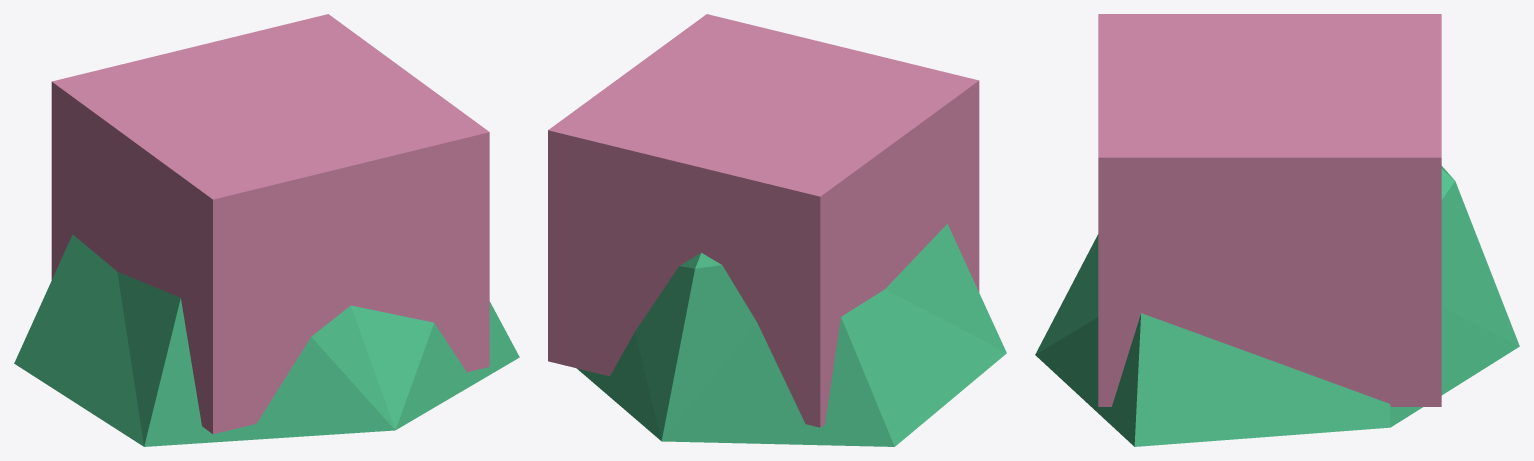
The model's file is rock_01_a_large_b.dae.
3 renders of one model, left to right at view 1: azimuth 30°, elevation 25°; view 2: azimuth 150°, elevation 25°; view 3: azimuth 270°, elevation 25°, orthographic. The views are drawn at different scales.
Visible parts, largest first — view 1: Untitled, Colmesh-1; view 2: Untitled, Colmesh-1; view 3: Untitled, Colmesh-1.
Boxes of the visible parts, x1=… form: Untitled: x1=51, y1=14, x2=489, y2=434; Colmesh-1: x1=14, y1=234, x2=519, y2=446; Untitled: x1=548, y1=14, x2=979, y2=427; Colmesh-1: x1=577, y1=224, x2=1006, y2=446; Untitled: x1=1098, y1=14, x2=1441, y2=406; Colmesh-1: x1=1035, y1=166, x2=1519, y2=446.
Bounding box in the file's own units: 1.18 × 1.23 × 0.7549.
